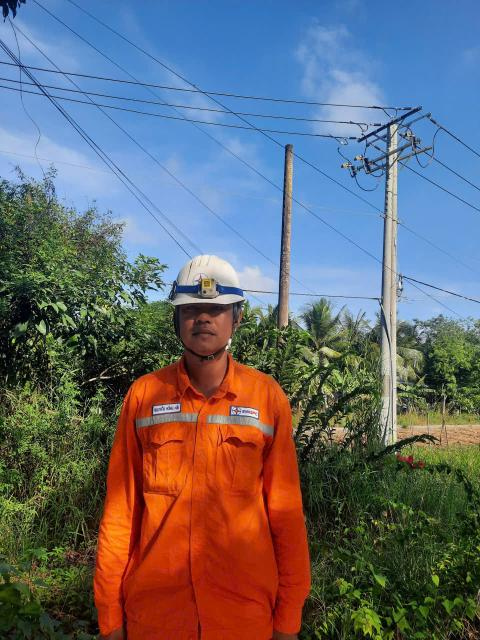helmet: (147, 248, 267, 315)
